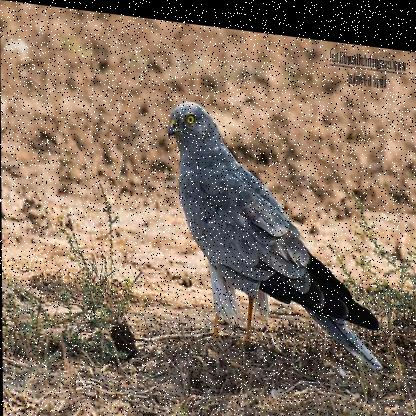Burung: (166, 91, 386, 362)
